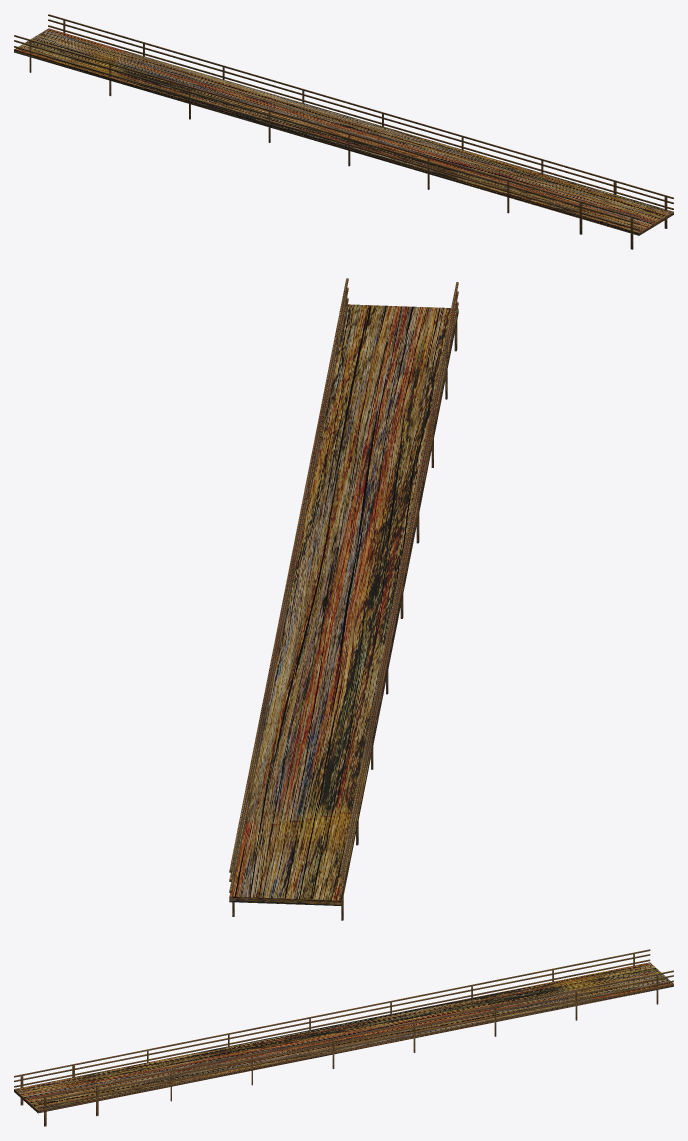
The model's file is scream_boardwalk 1.fbx.
3 views of the same model, one above another, from view 1: azimuth 30°, elevation 25°; view 2: azimuth 150°, elevation 25°; view 3: azimuth 270°, elevation 25° (orthographic). The views are drawn at different scales.
Visible parts, largest first — view 1: hand; view 2: hand; view 3: hand.
Part boxes in pixels (left/top/right/bottom): hand: left=14, top=14, right=673, bottom=249; hand: left=229, top=278, right=458, bottom=920; hand: left=14, top=949, right=673, bottom=1126.
Size of the model in its own units: 1352 by 2544 by 130.
Materials: 7 (7 with a texture image).
